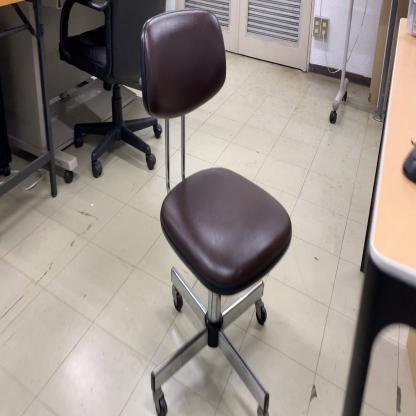chair: (139, 7, 293, 416), (58, 0, 169, 178)
